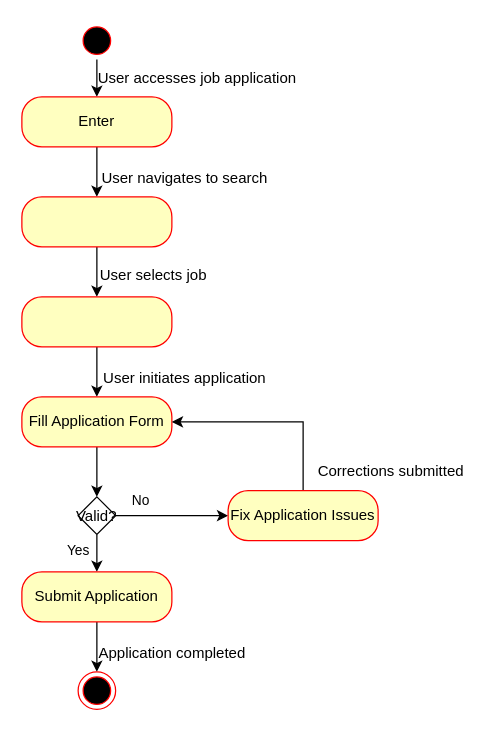
This 500x731 diagram has some shape labels left out. The box of each missing label's shape, as (x1, y1, x2, y2) in pixels:
Search Job Listings: (21, 196, 172, 247)
View Job Details: (21, 296, 172, 347)
